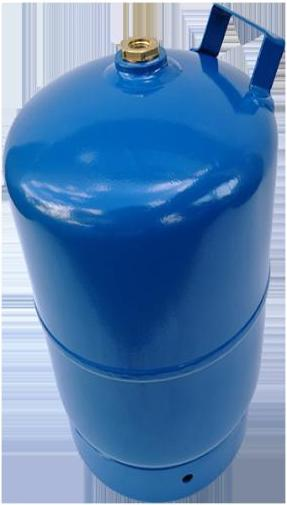cylinder: (1, 0, 287, 505)
